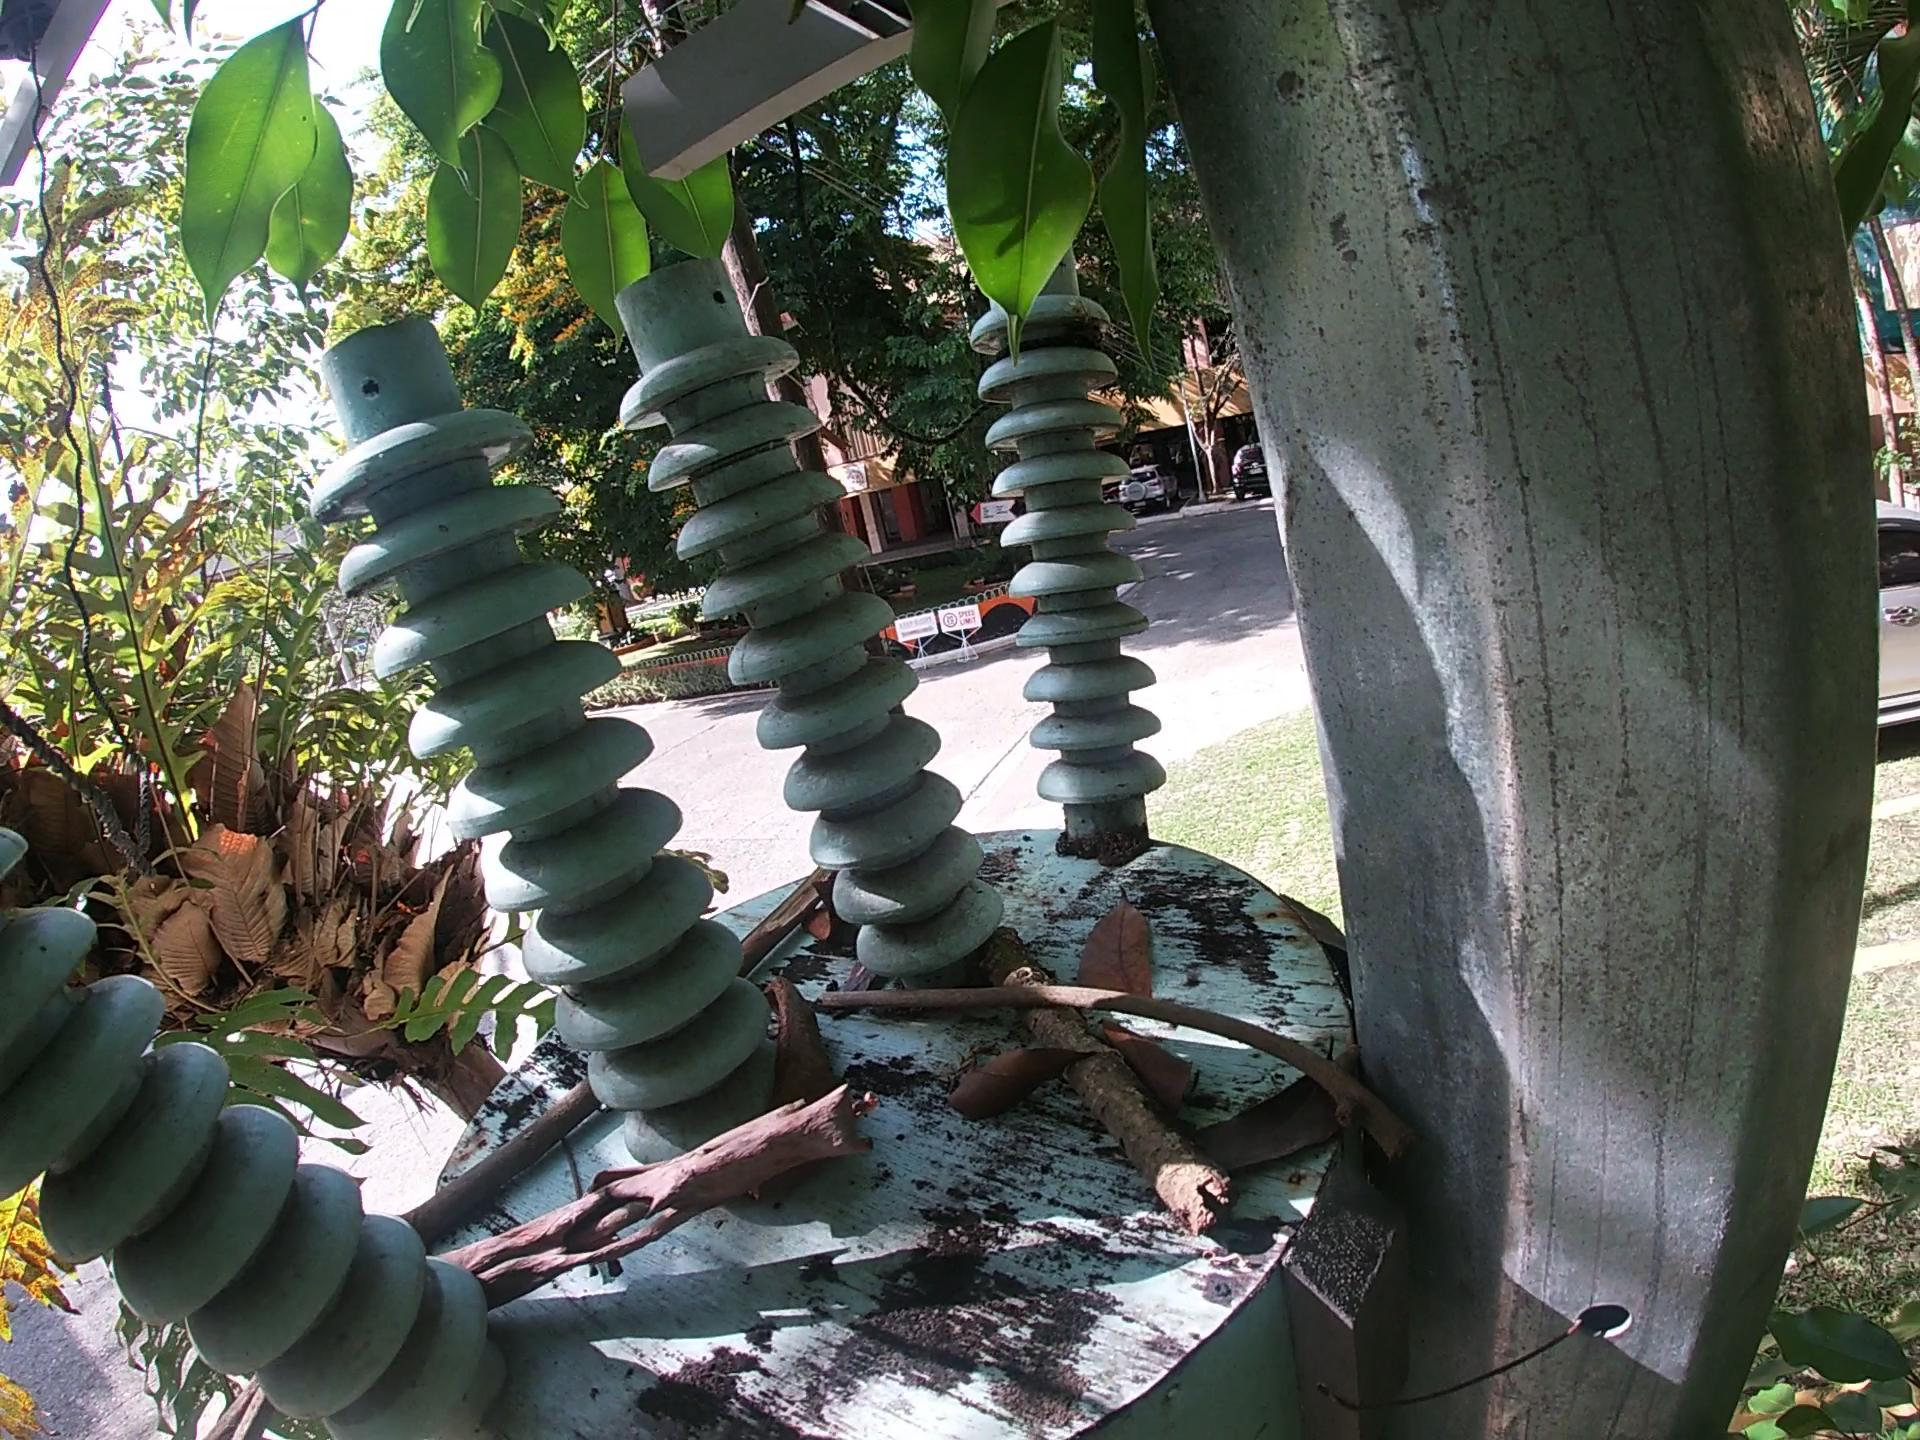leaf: (1181, 1033, 1355, 1184), (937, 1036, 1104, 1127), (1092, 1013, 1203, 1125), (1073, 889, 1166, 1004)
mahogany fruit: (757, 973, 831, 1203), (792, 873, 859, 951)
tree branch: (426, 1069, 892, 1325), (815, 982, 1420, 1175), (972, 921, 1238, 1243), (401, 1078, 615, 1243), (732, 864, 841, 979)
